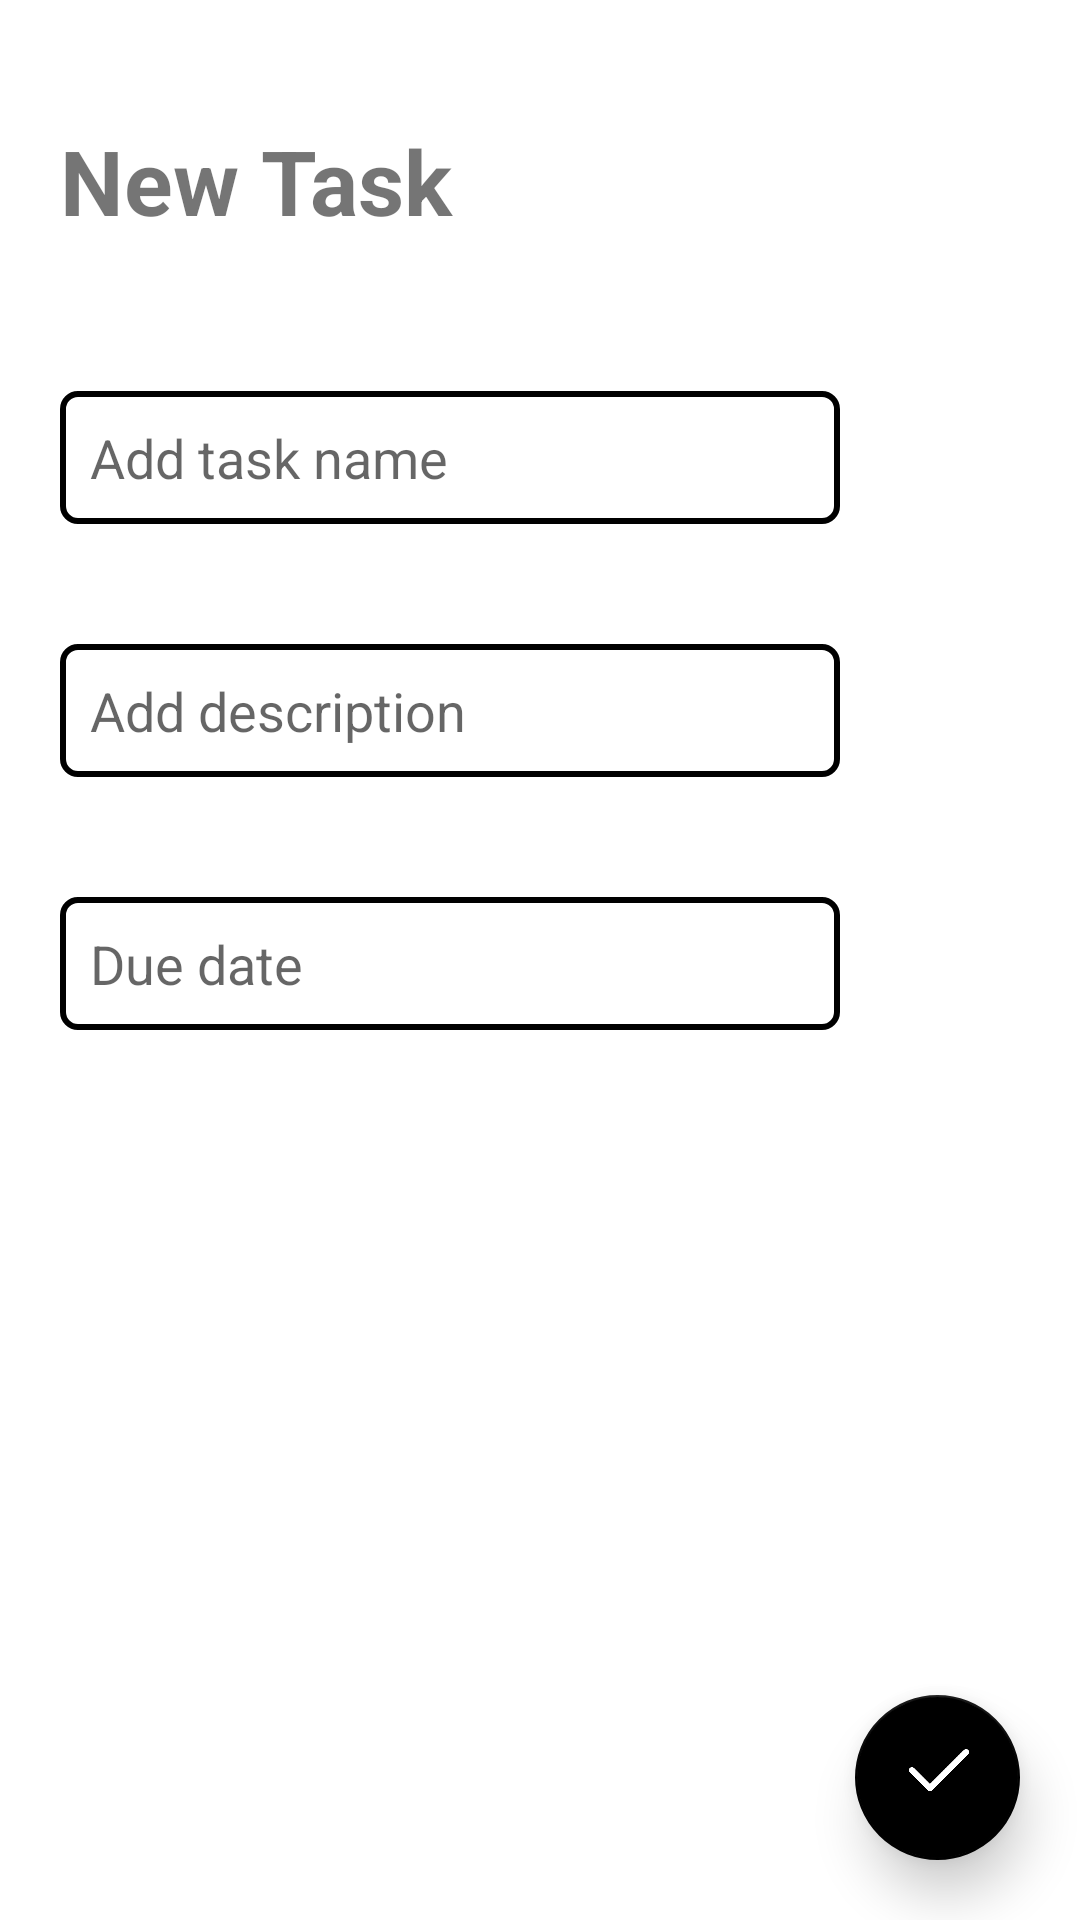

Point at icon controls on the screen. Image size 1080×1920, points as (x=x, y=y).
save task: (x=937, y=1777)
